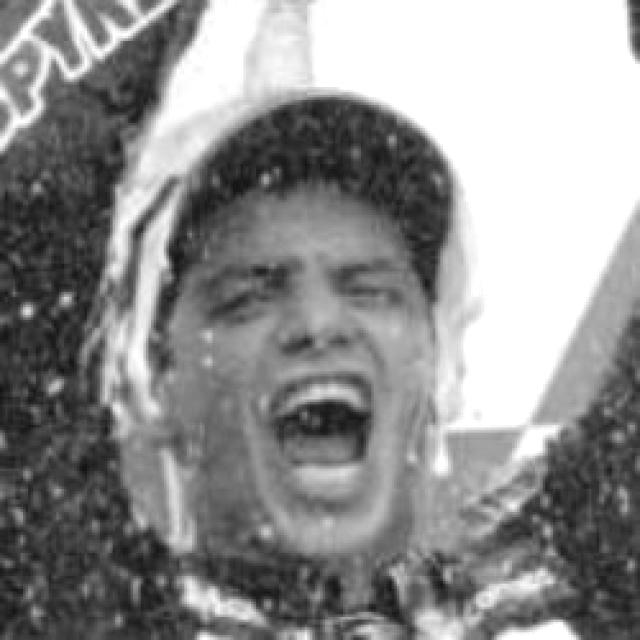real: (172, 184, 432, 562), (209, 272, 407, 328)
